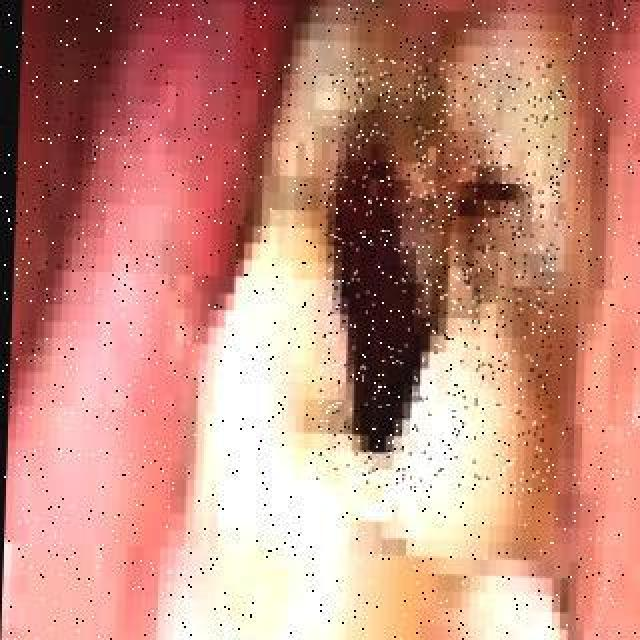cavities: (245, 48, 587, 474)
